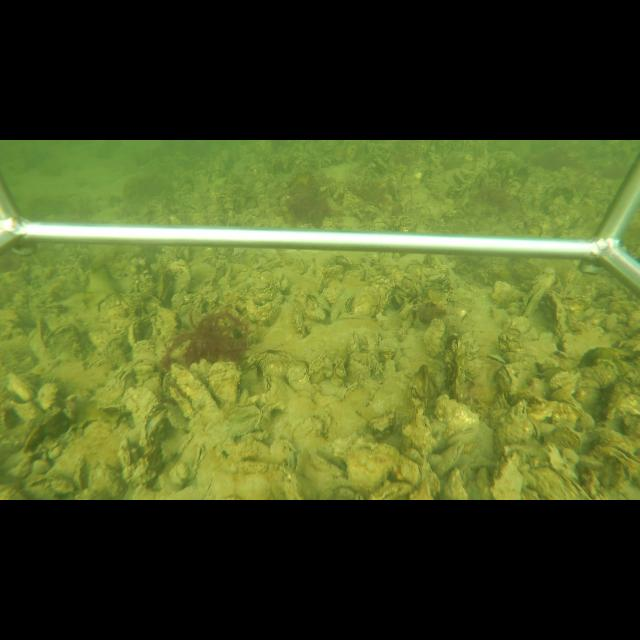Oyster-Closed: (337, 445, 397, 490), (493, 398, 539, 454), (432, 393, 480, 441), (486, 450, 524, 500), (519, 270, 557, 317), (205, 360, 242, 406), (426, 439, 465, 476), (542, 290, 572, 336), (419, 317, 447, 360), (393, 453, 423, 489), (439, 468, 472, 500), (494, 364, 517, 402), (127, 316, 146, 348), (84, 352, 110, 372), (341, 295, 354, 314)
Oyster-Open: (138, 404, 166, 452), (592, 443, 637, 472)
